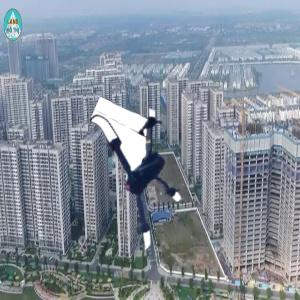drone: (71, 110, 208, 247)
